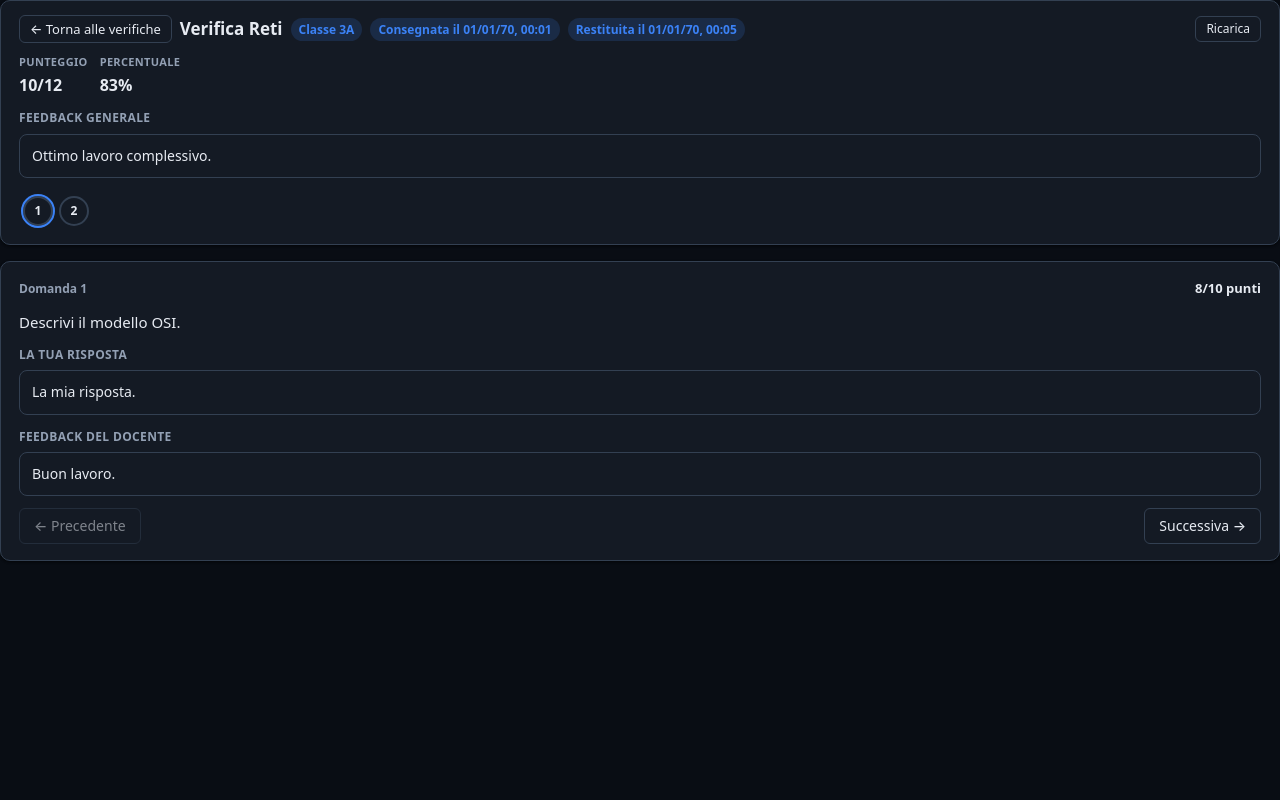
Test case: StudentCorrectionView — manual reload › reloads via loadStudentCorrectionReturn and updates the view
Click the button "Ricarica" at point(1228, 29), box [1195,16,1261,42]
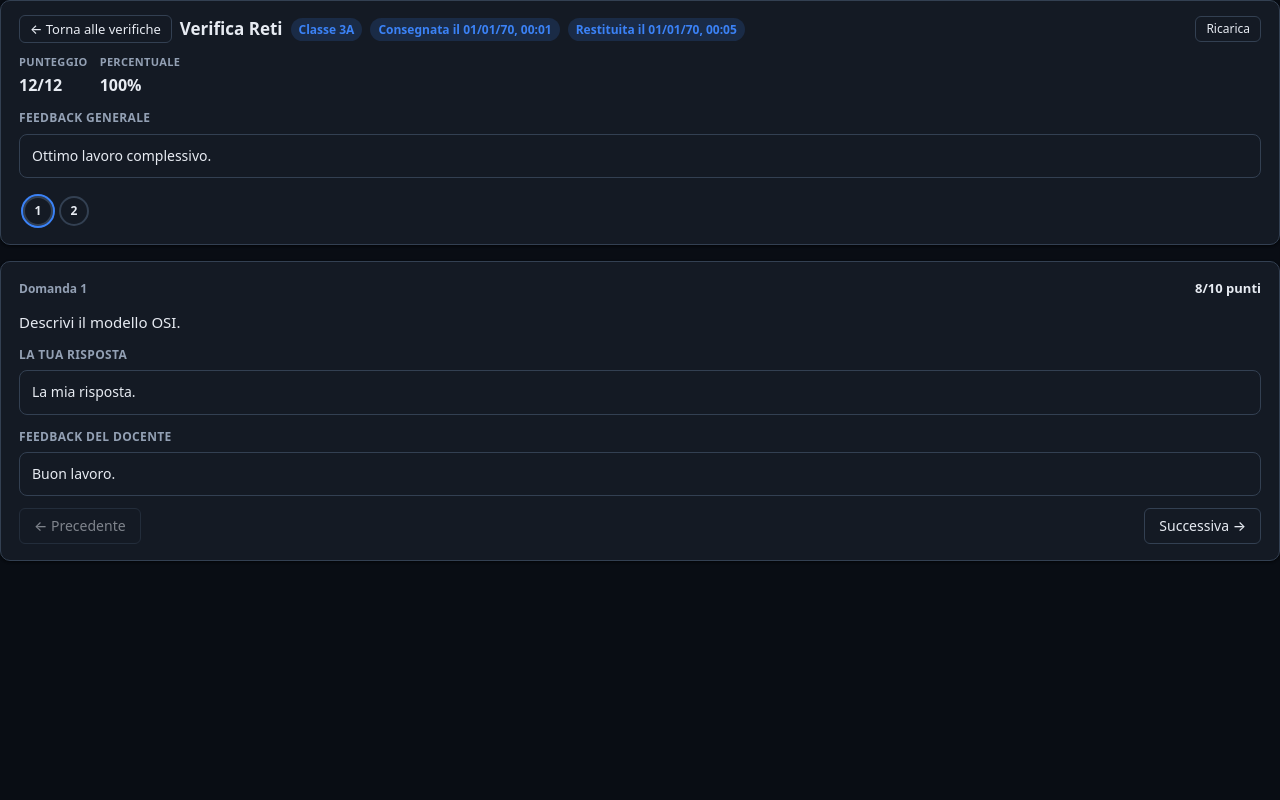
Expected: the text "12/12" is shown, [19,74,62,96]
